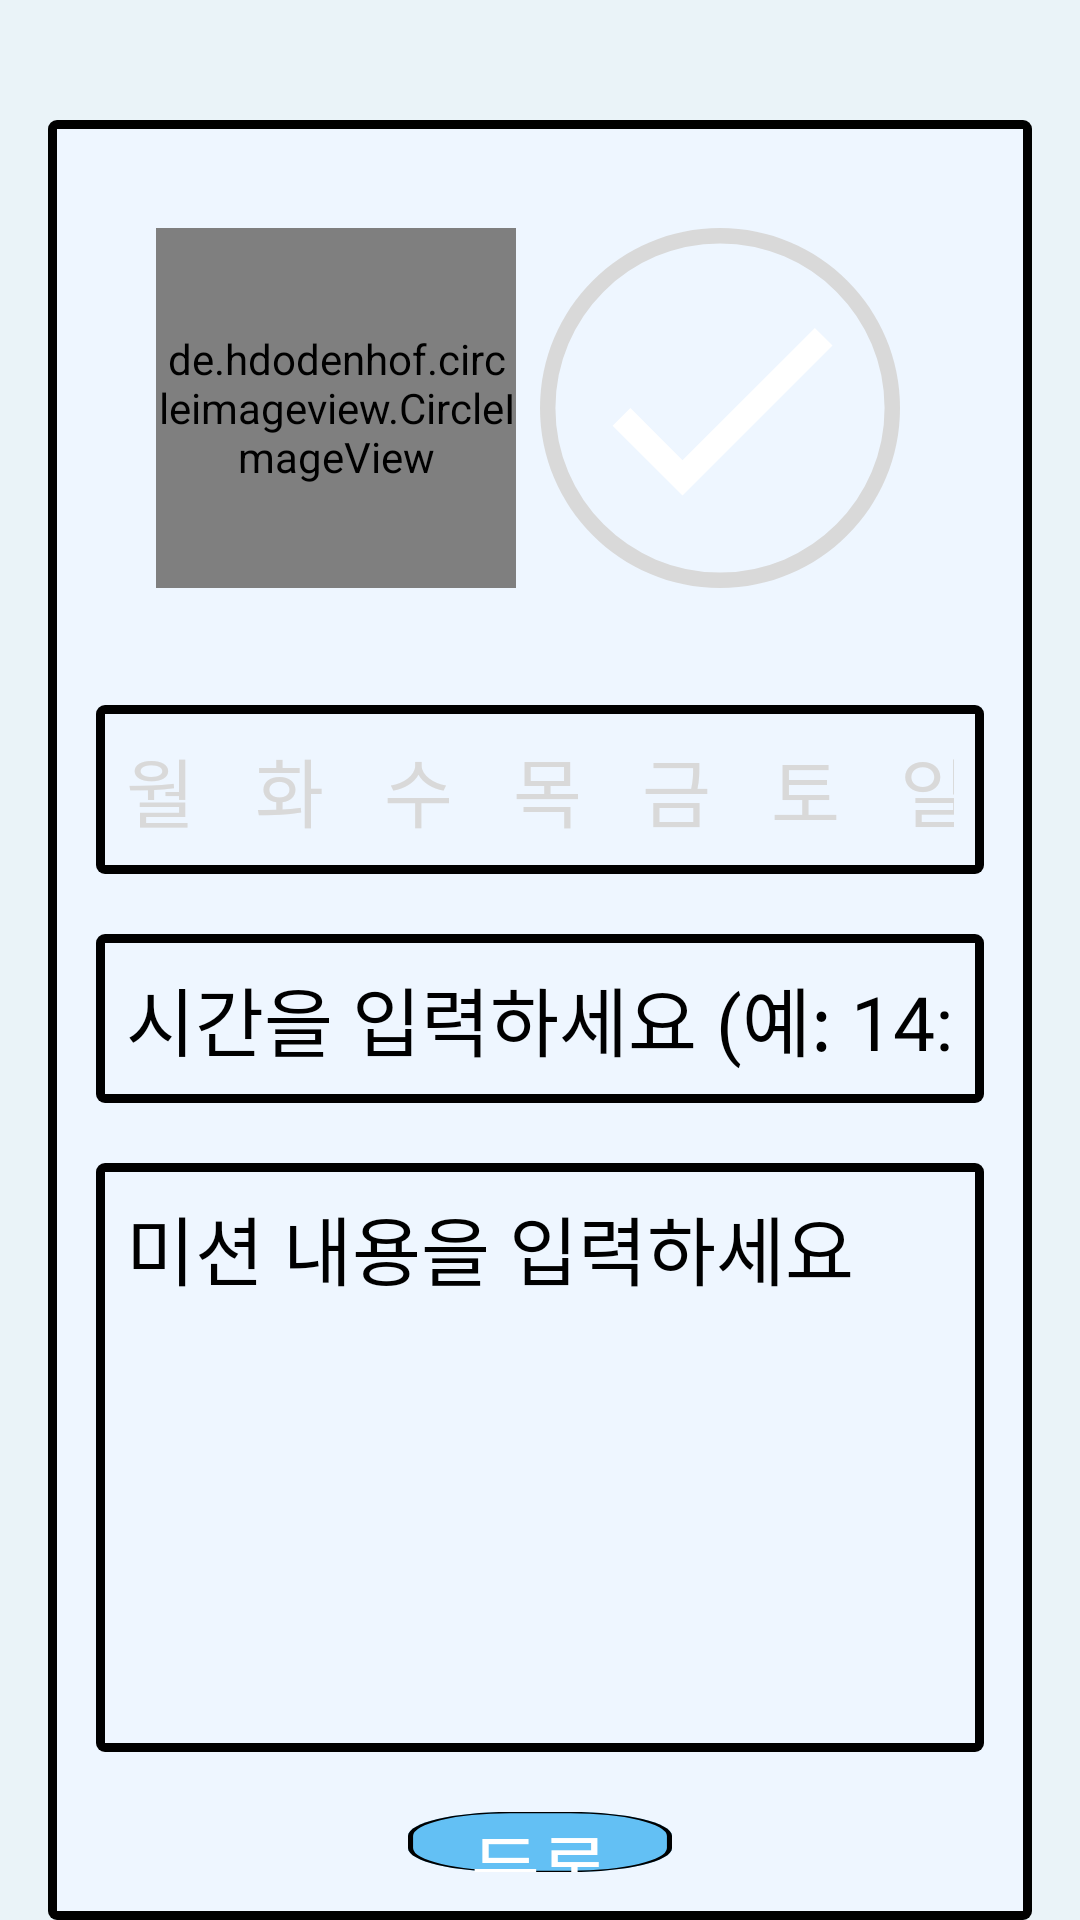

Where to tap for icons on this 1080 × 1920 app screen, as (x,y):
check: (720,408)
